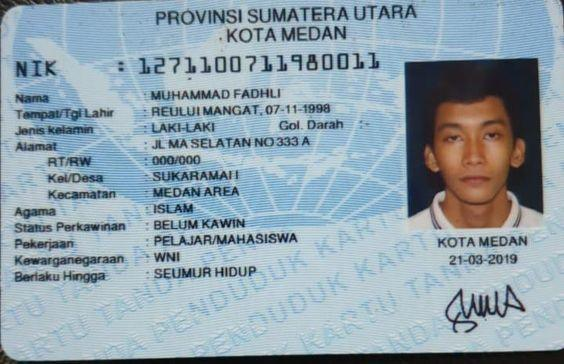ID-card: (5, 4, 562, 354)
